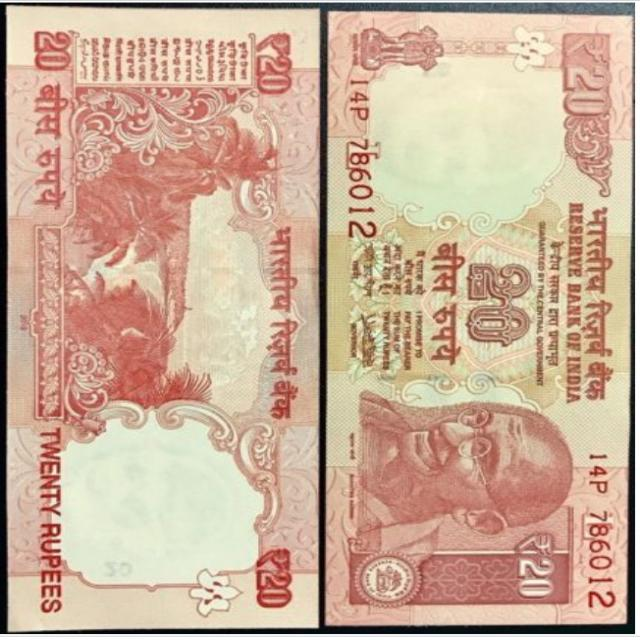20IndianRupees: (4, 7, 313, 624)
